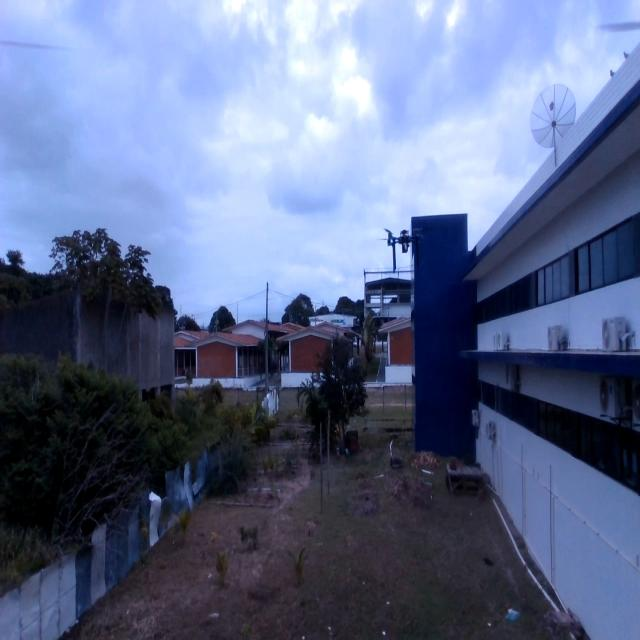-uav-: (371, 210, 437, 289)
